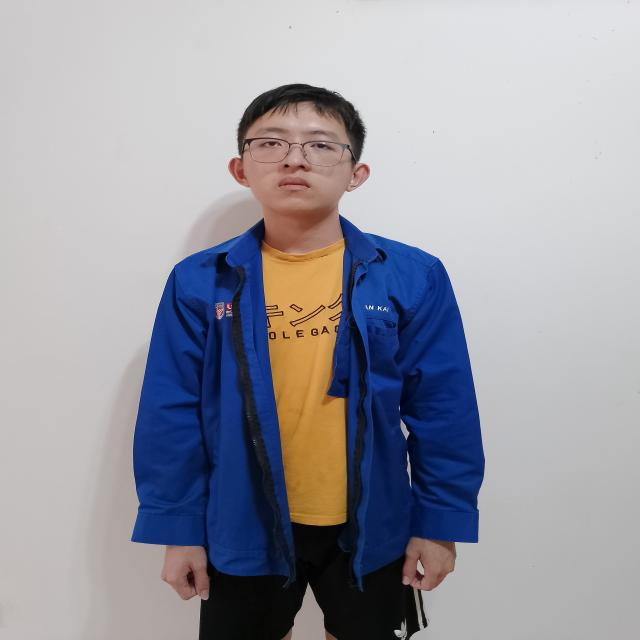person_with_labcoat: (133, 84, 484, 640)
